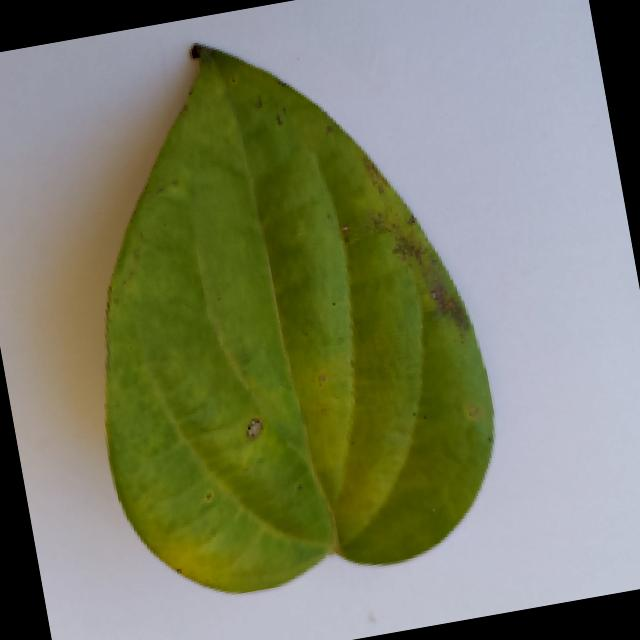slow-decline: (8, 0, 549, 617)
